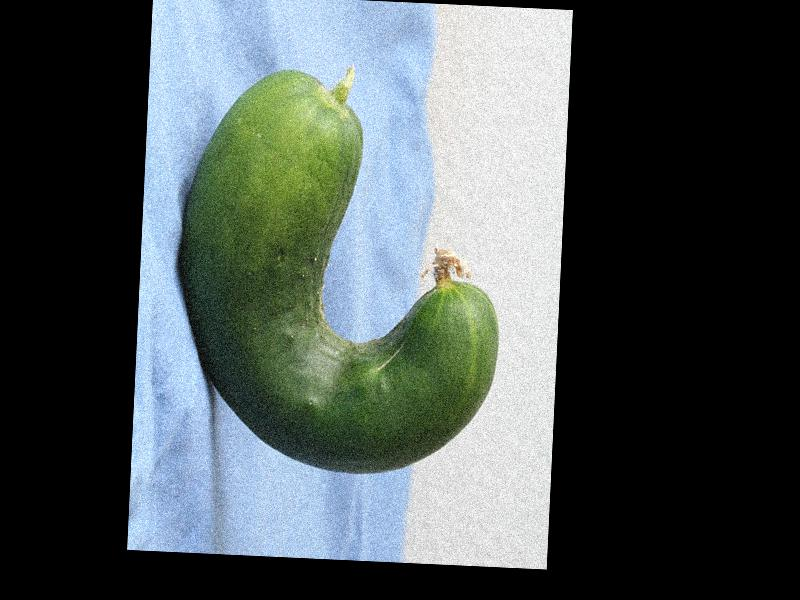Cucumber: (170, 64, 511, 481)
